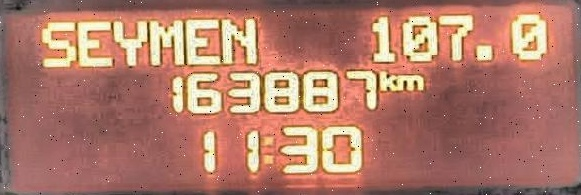-: (474, 43, 493, 60)
0: (319, 125, 362, 173), (508, 12, 548, 60), (400, 14, 437, 61)
1: (370, 15, 394, 62), (244, 129, 260, 171), (200, 130, 216, 172), (169, 75, 184, 112)
3: (278, 124, 318, 174), (225, 71, 260, 113)
6: (185, 71, 220, 114)
7: (437, 13, 473, 60), (343, 69, 377, 110)
8: (300, 69, 338, 111), (263, 71, 299, 112)
X: (111, 19, 148, 66), (183, 17, 219, 65), (75, 20, 111, 67), (148, 18, 183, 66), (40, 20, 74, 68), (220, 17, 255, 63), (396, 73, 423, 90), (378, 69, 396, 91), (262, 135, 275, 164)
